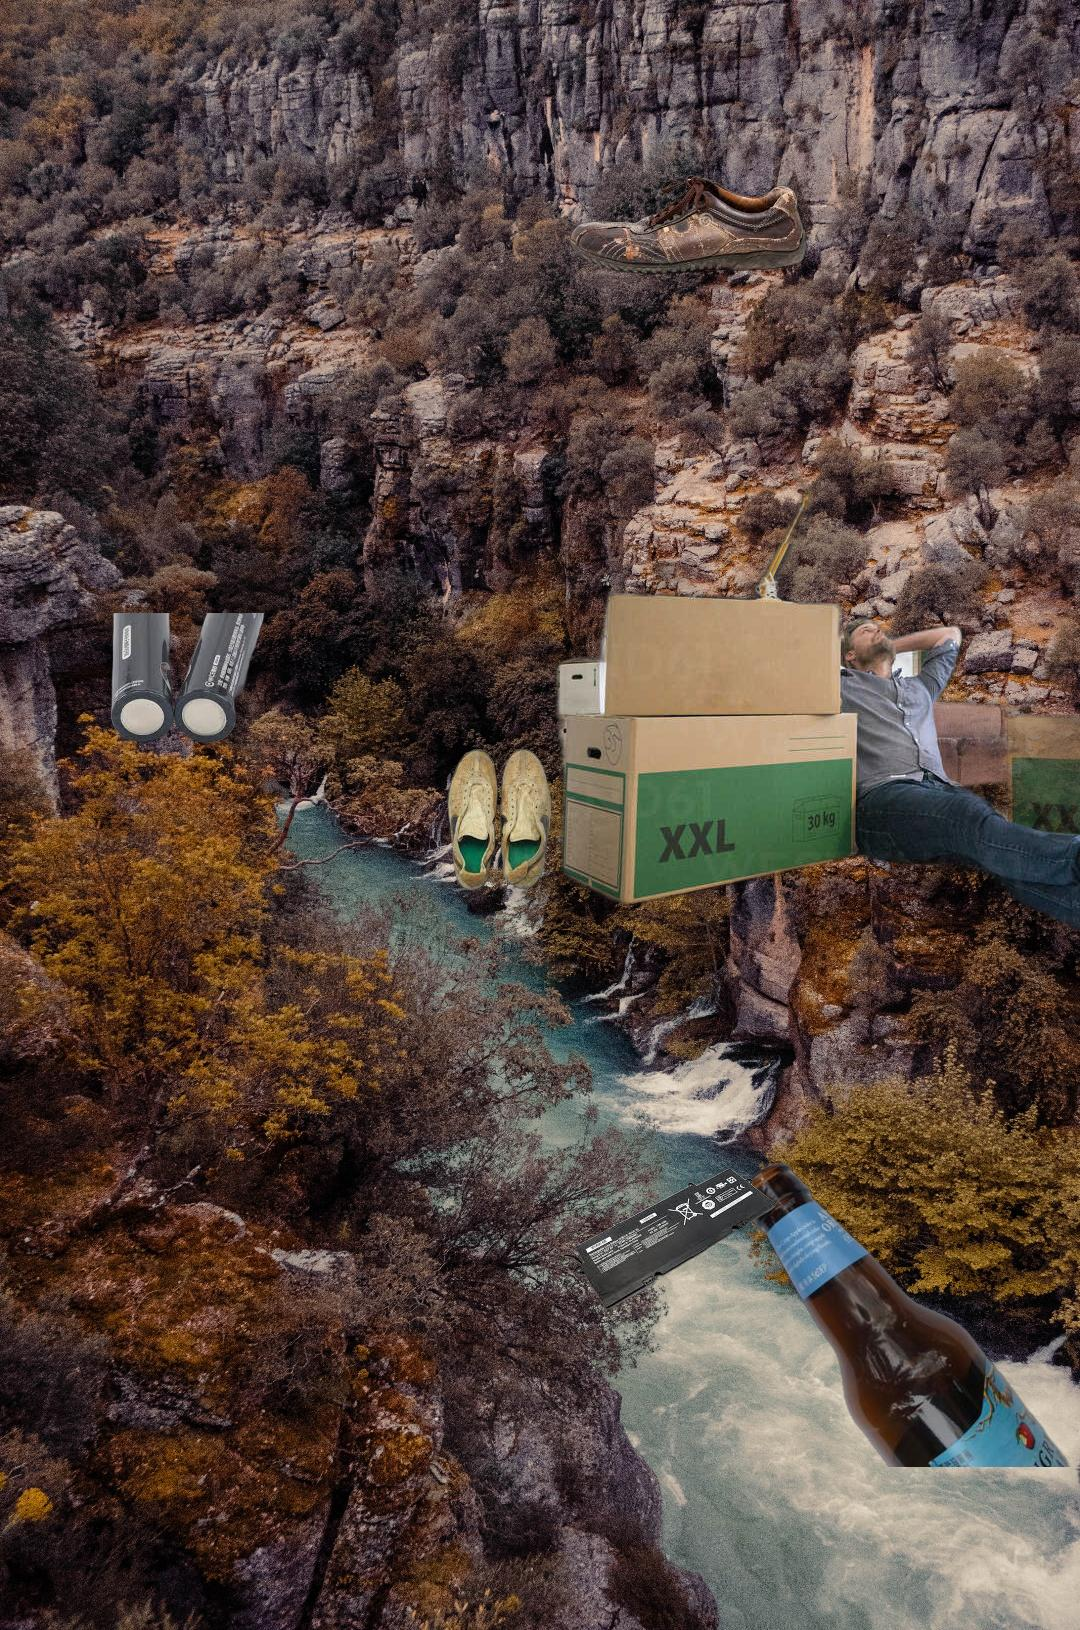battery: (554, 1165, 779, 1312), (108, 613, 268, 746)
glass: (735, 1159, 1073, 1467)
shoes: (567, 172, 809, 277), (445, 746, 554, 894)
trashbox-cardboard: (546, 388, 1080, 963)
